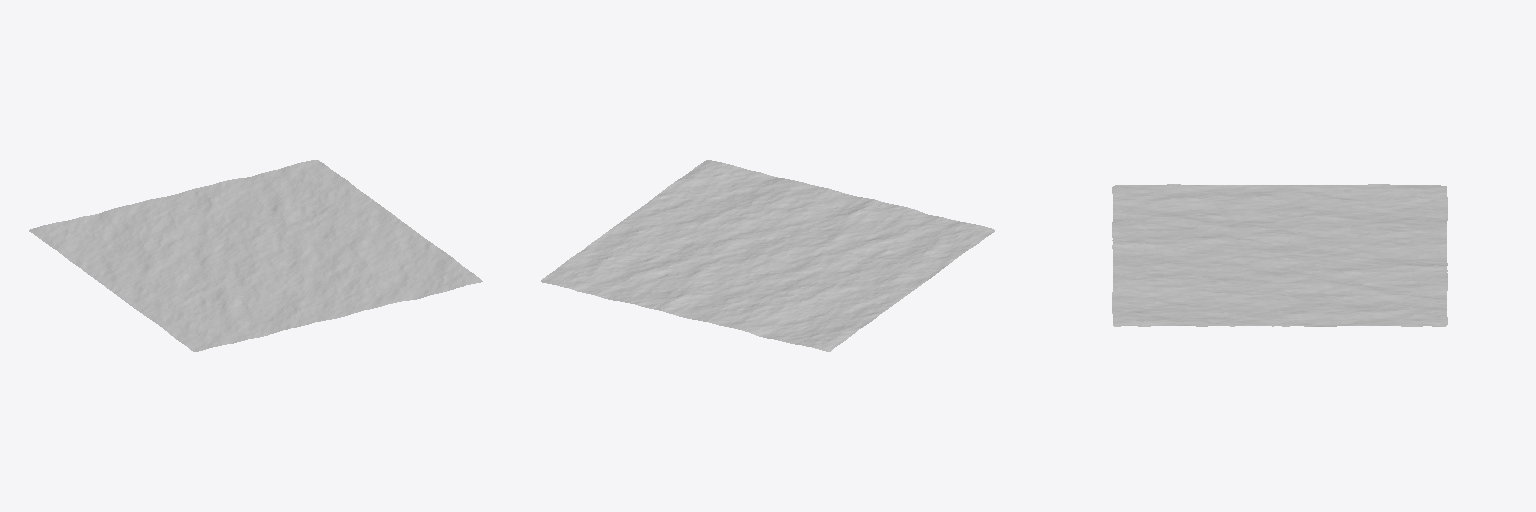
File: sea_000012.obj
3 views of the same model, side by side, from view 1: azimuth 30°, elevation 25°; view 2: azimuth 150°, elevation 25°; view 3: azimuth 270°, elevation 25° (orthographic).
Visible parts, largest first — view 1: Plane; view 2: Plane; view 3: Plane.
Boxes of the visible parts, box(x1,y1,x2,y2) form: Plane: box(29, 160, 482, 351); Plane: box(541, 160, 994, 351); Plane: box(1112, 184, 1447, 326).
Size of the model in its own units: 200 by 1.92 by 201.